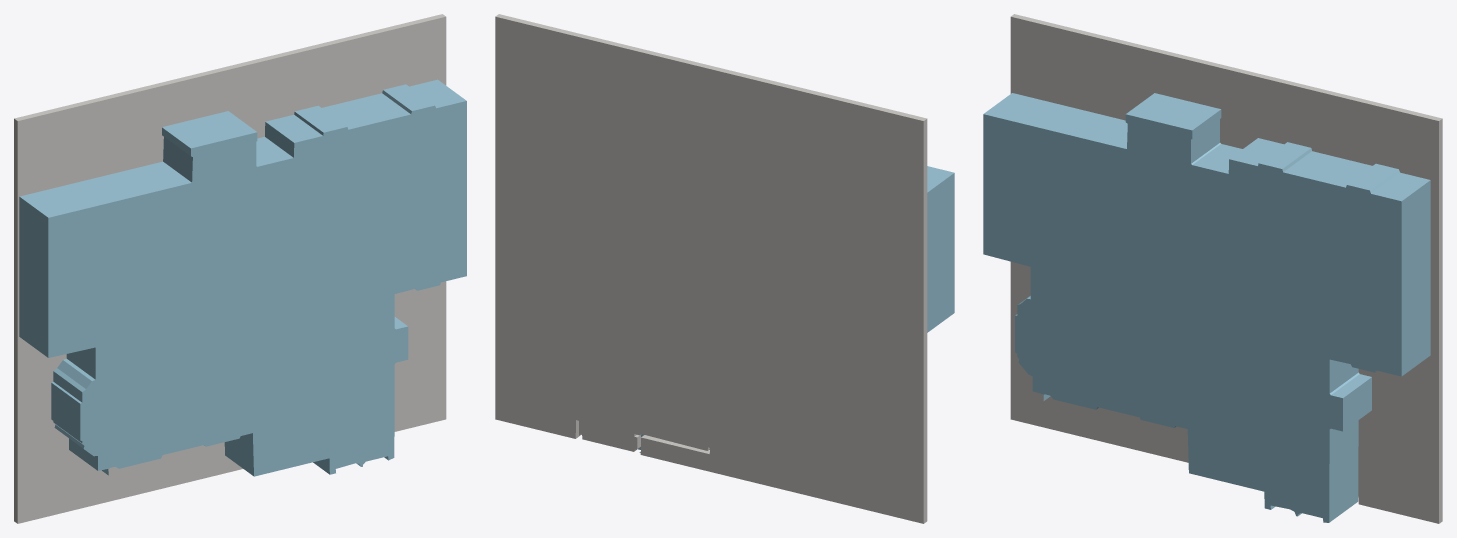
3 renders of one model, left to right at view 1: azimuth 30°, elevation 25°; view 2: azimuth 150°, elevation 25°; view 3: azimuth 330°, elevation 25°, orthographic.
Visible parts, largest first — view 1: world; view 2: world; view 3: world.
Part boxes in pixels (x1=…): world: x1=14, y1=14, x2=466, y2=523; world: x1=495, y1=14, x2=954, y2=523; world: x1=983, y1=14, x2=1442, y2=523.
Bounding box in the file's own units: 10.23 × 9.19 × 1.35.
